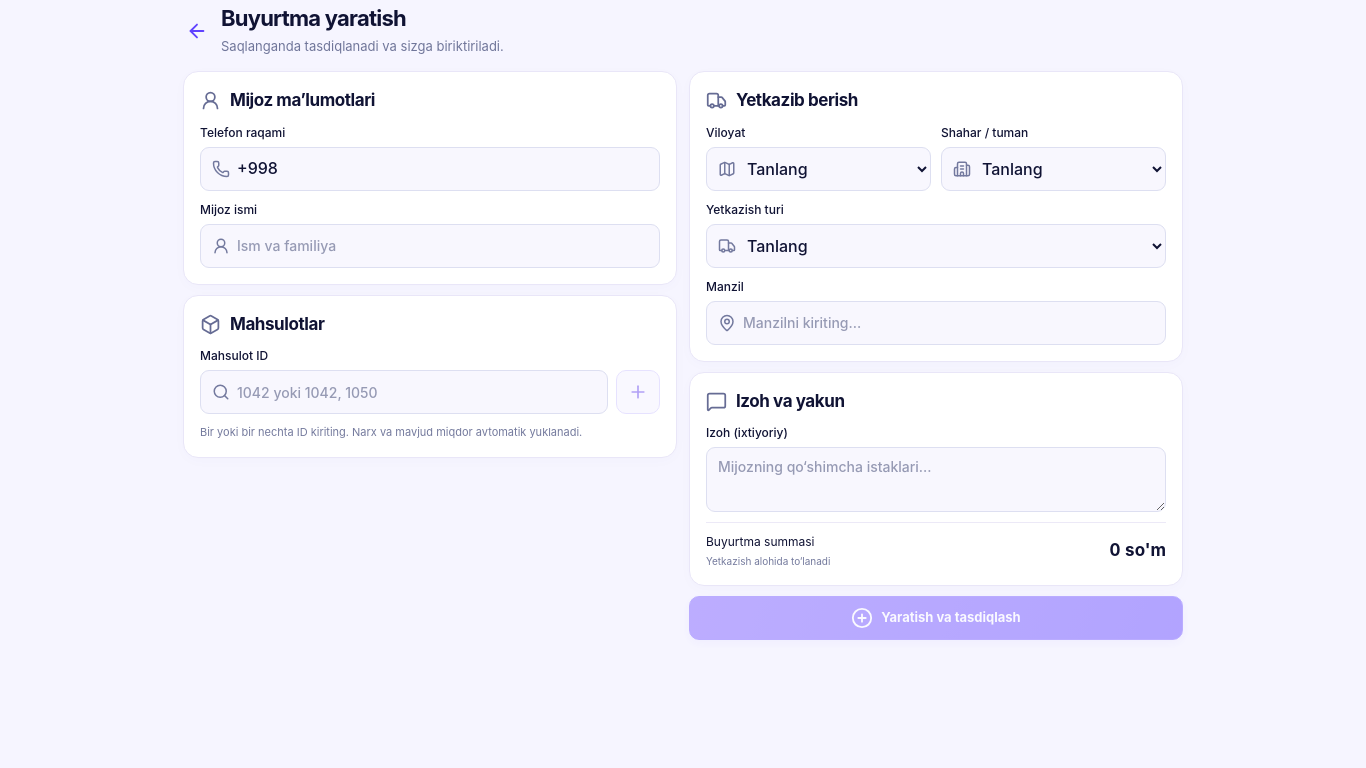
Test: operator order workspace › creates multiple product IDs using server pricing and reuses the request ID after a lost response
Later steps or results of the test are not shown.
Replace the text in the field labelled "Telefon raqami" with "+998 90 123 45 67" at (430, 168), box x1=201 y1=148 x2=659 y2=190
Type "Test Mijoz" into the field labelled "Mijoz ismi".
click(430, 246); type("Test Mijoz")  # box x1=201 y1=224 x2=659 y2=266
Select "Toshkent" in the dropdown labelled "Viloyat" at (818, 168), box x1=707 y1=148 x2=930 y2=190
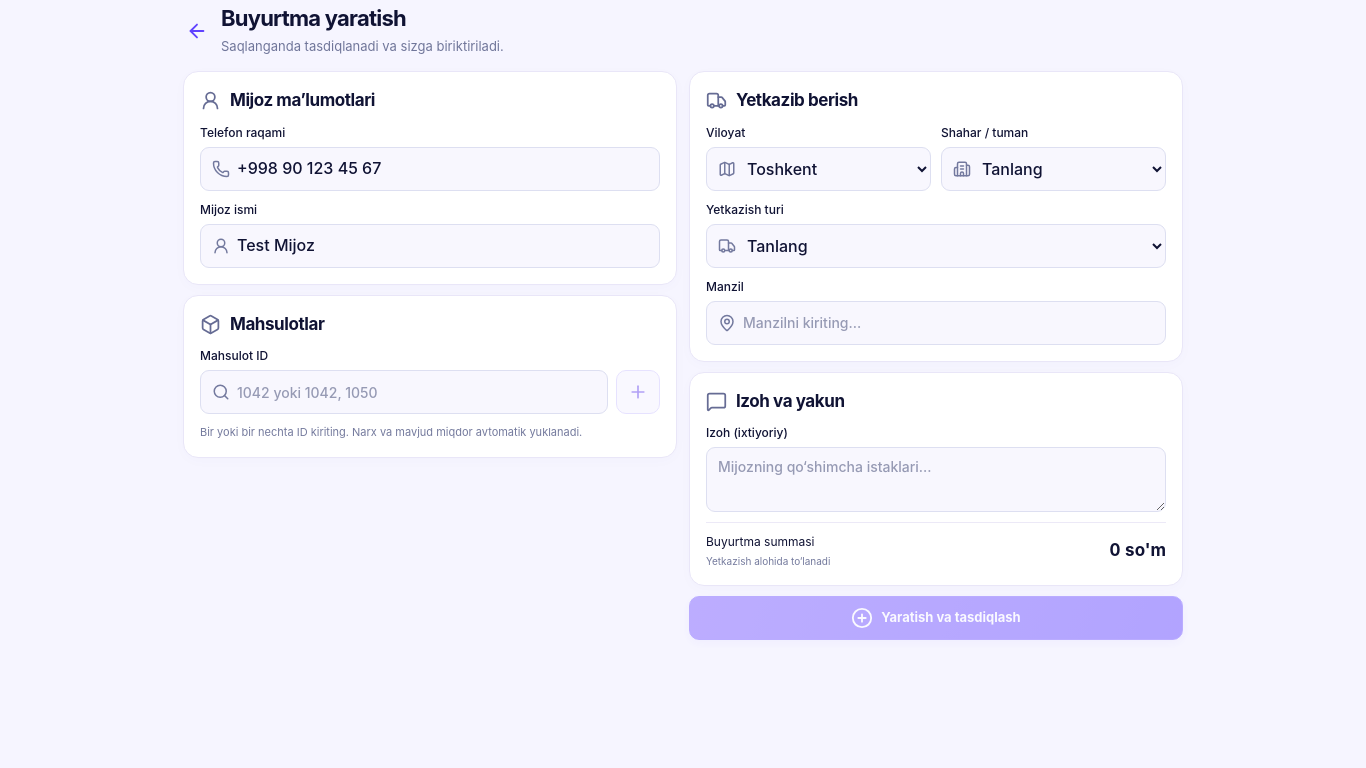
Select "Chilonzor" in the dropdown labelled "Shahar / tuman" at (1054, 168), box x1=942 y1=148 x2=1165 y2=190
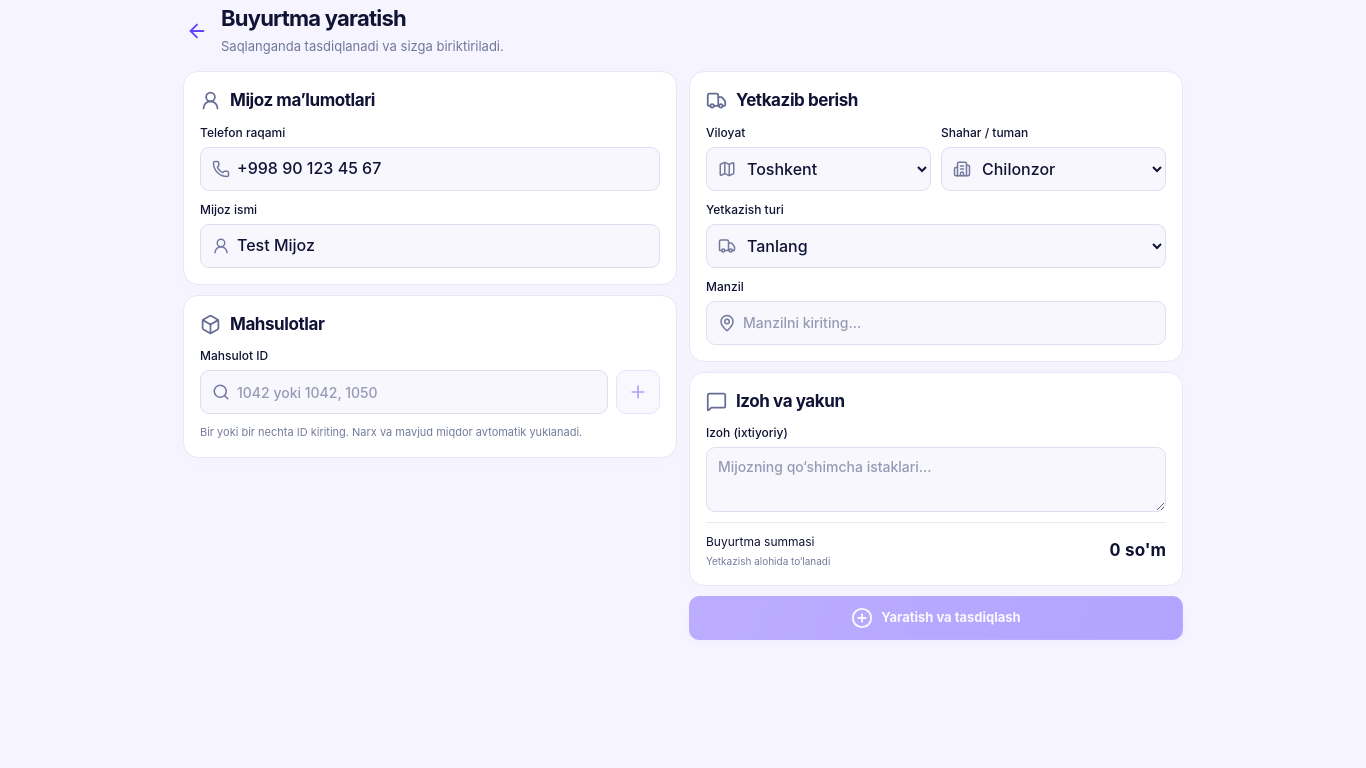
Select "Beepost — markaz · 15 000 so'm" in the dropdown labelled "Yetkazish turi" at (936, 246), box x1=707 y1=224 x2=1165 y2=266
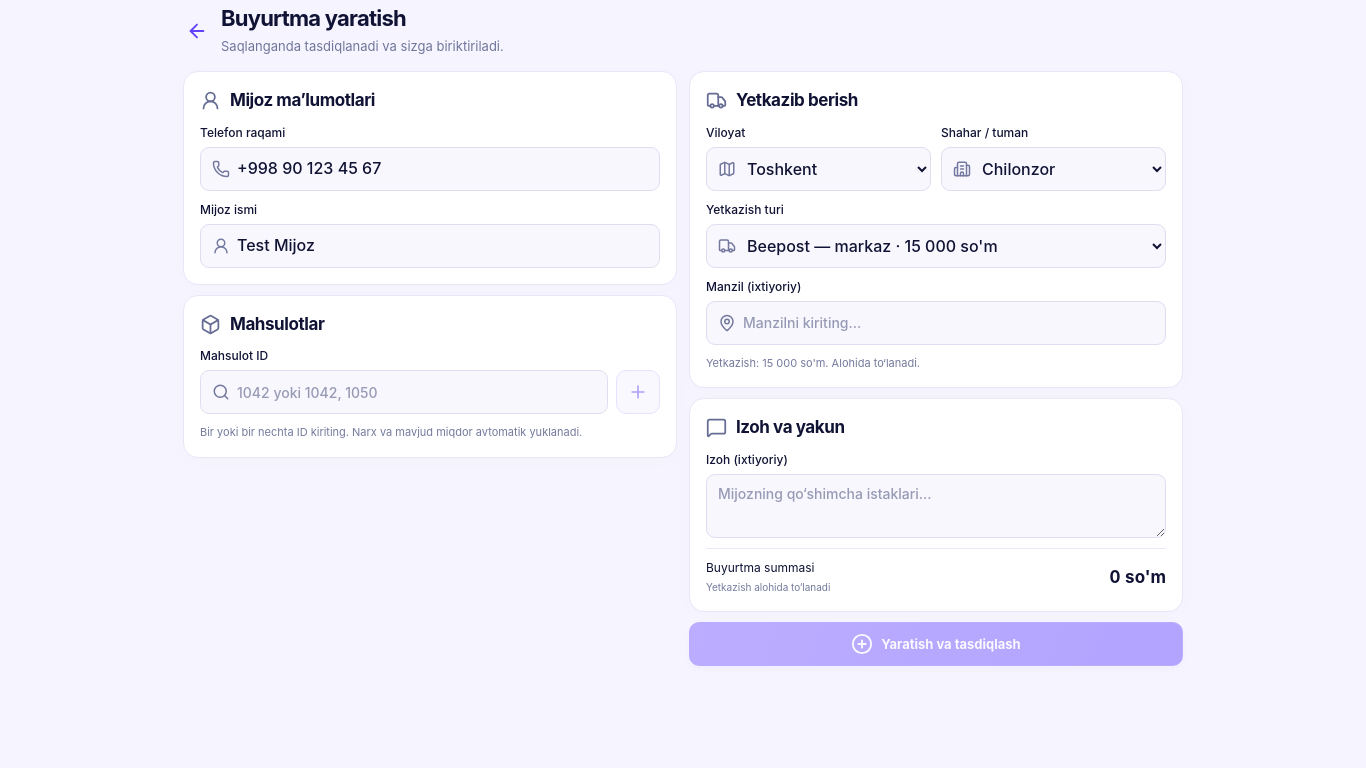
Type "1042, 1050" into the field labelled "Mahsulot ID".
click(404, 392); type("1042, 1050")  # box x1=201 y1=371 x2=607 y2=413
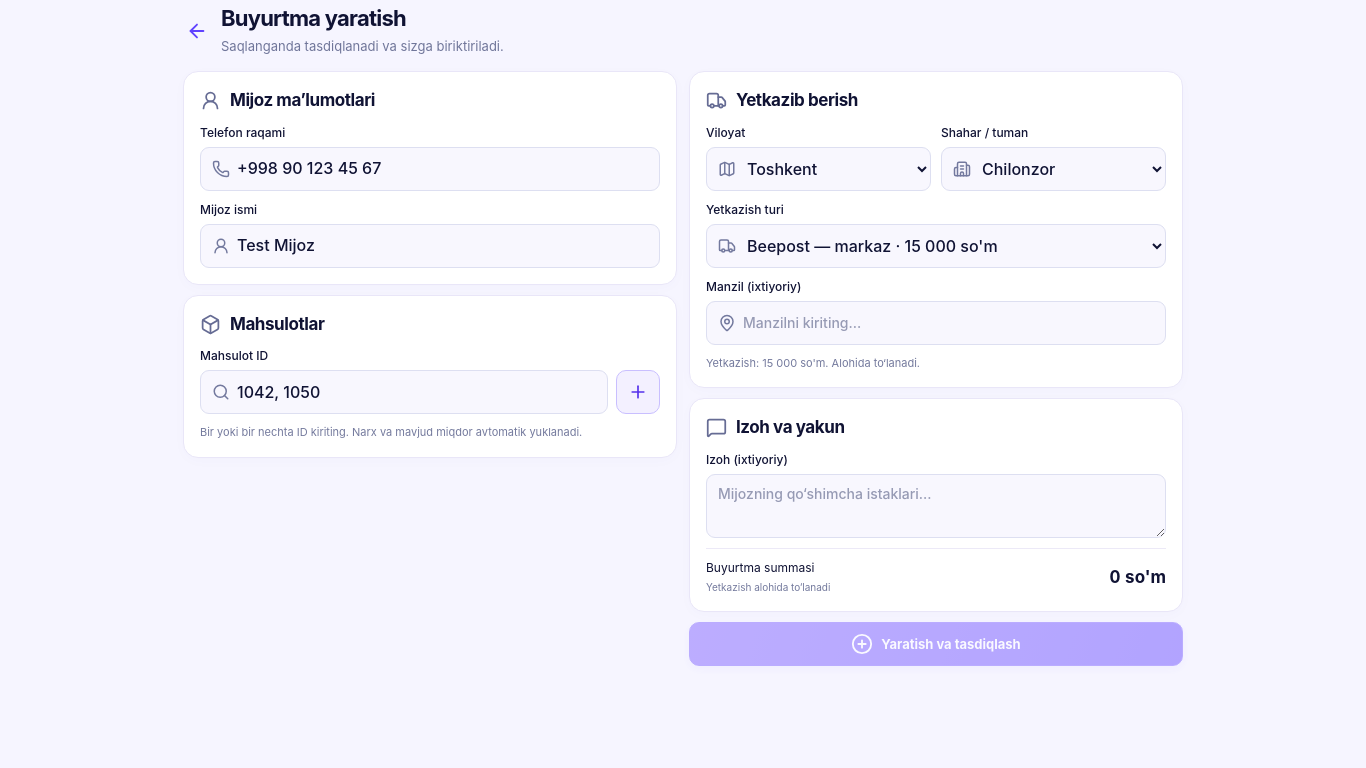
Click the button named "Mahsulotlarni qo‘shish".
click(638, 392)  # box x1=616 y1=370 x2=660 y2=414
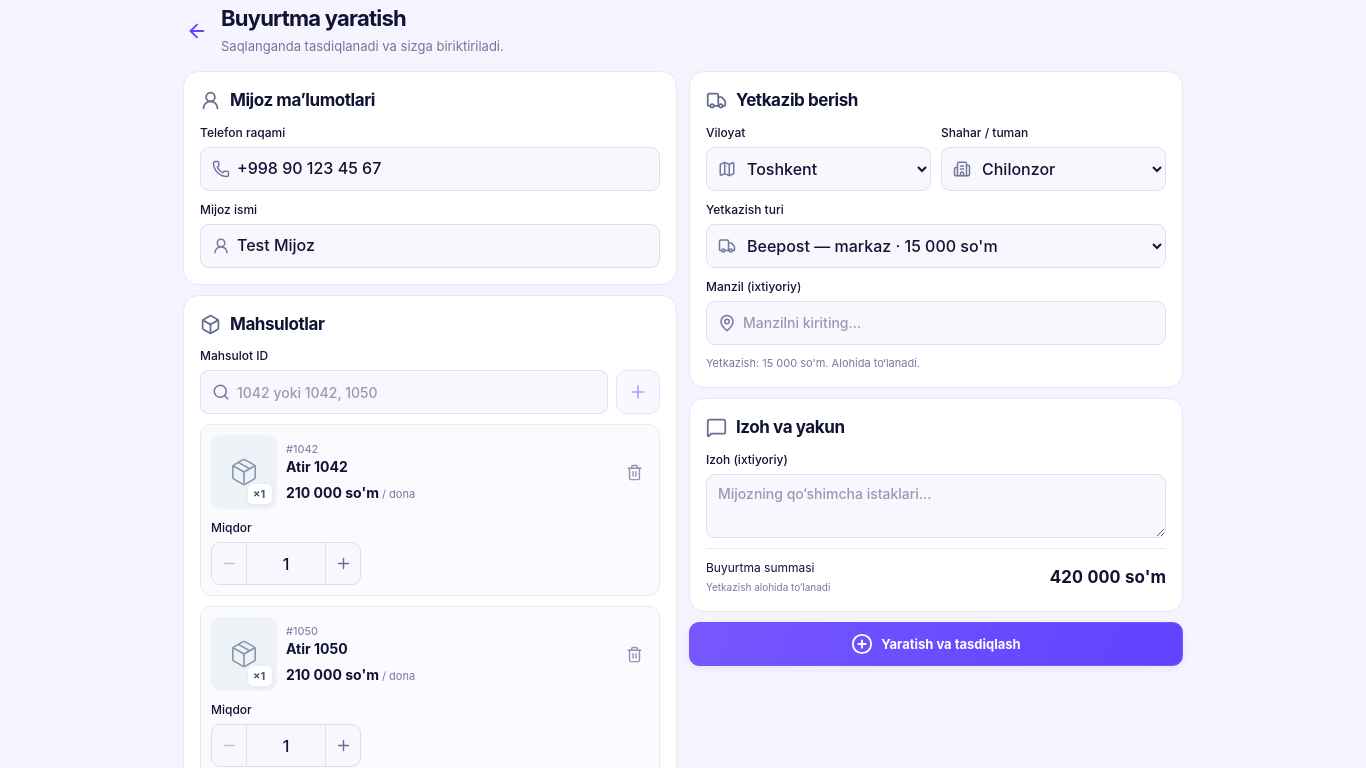
Now the heading "Atir 1042" is shown, box x1=286 y1=458 x2=348 y2=475
Click the button "Yaratish va tasdiqlash".
click(936, 644)  # box x1=689 y1=622 x2=1183 y2=666
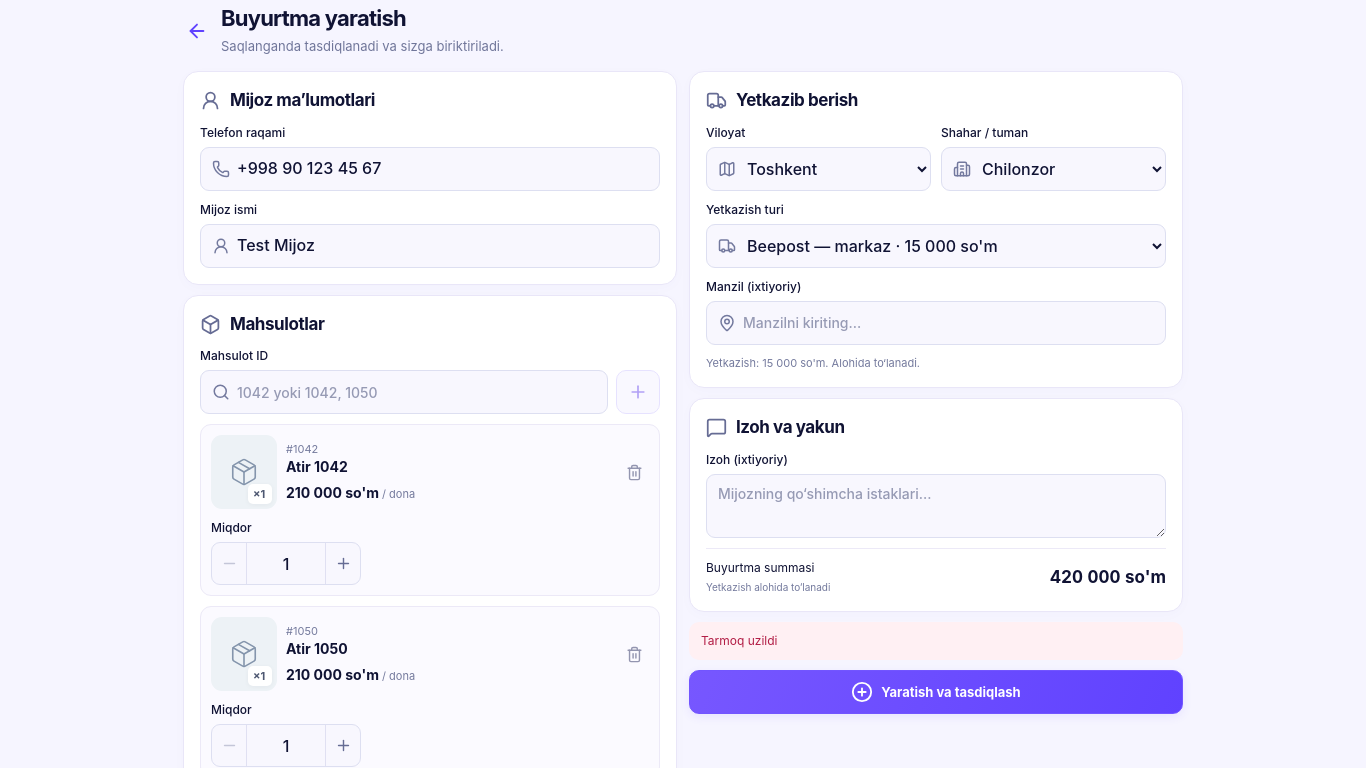
Now the message "Tarmoq uzildi" is shown, box x1=689 y1=622 x2=1183 y2=660
